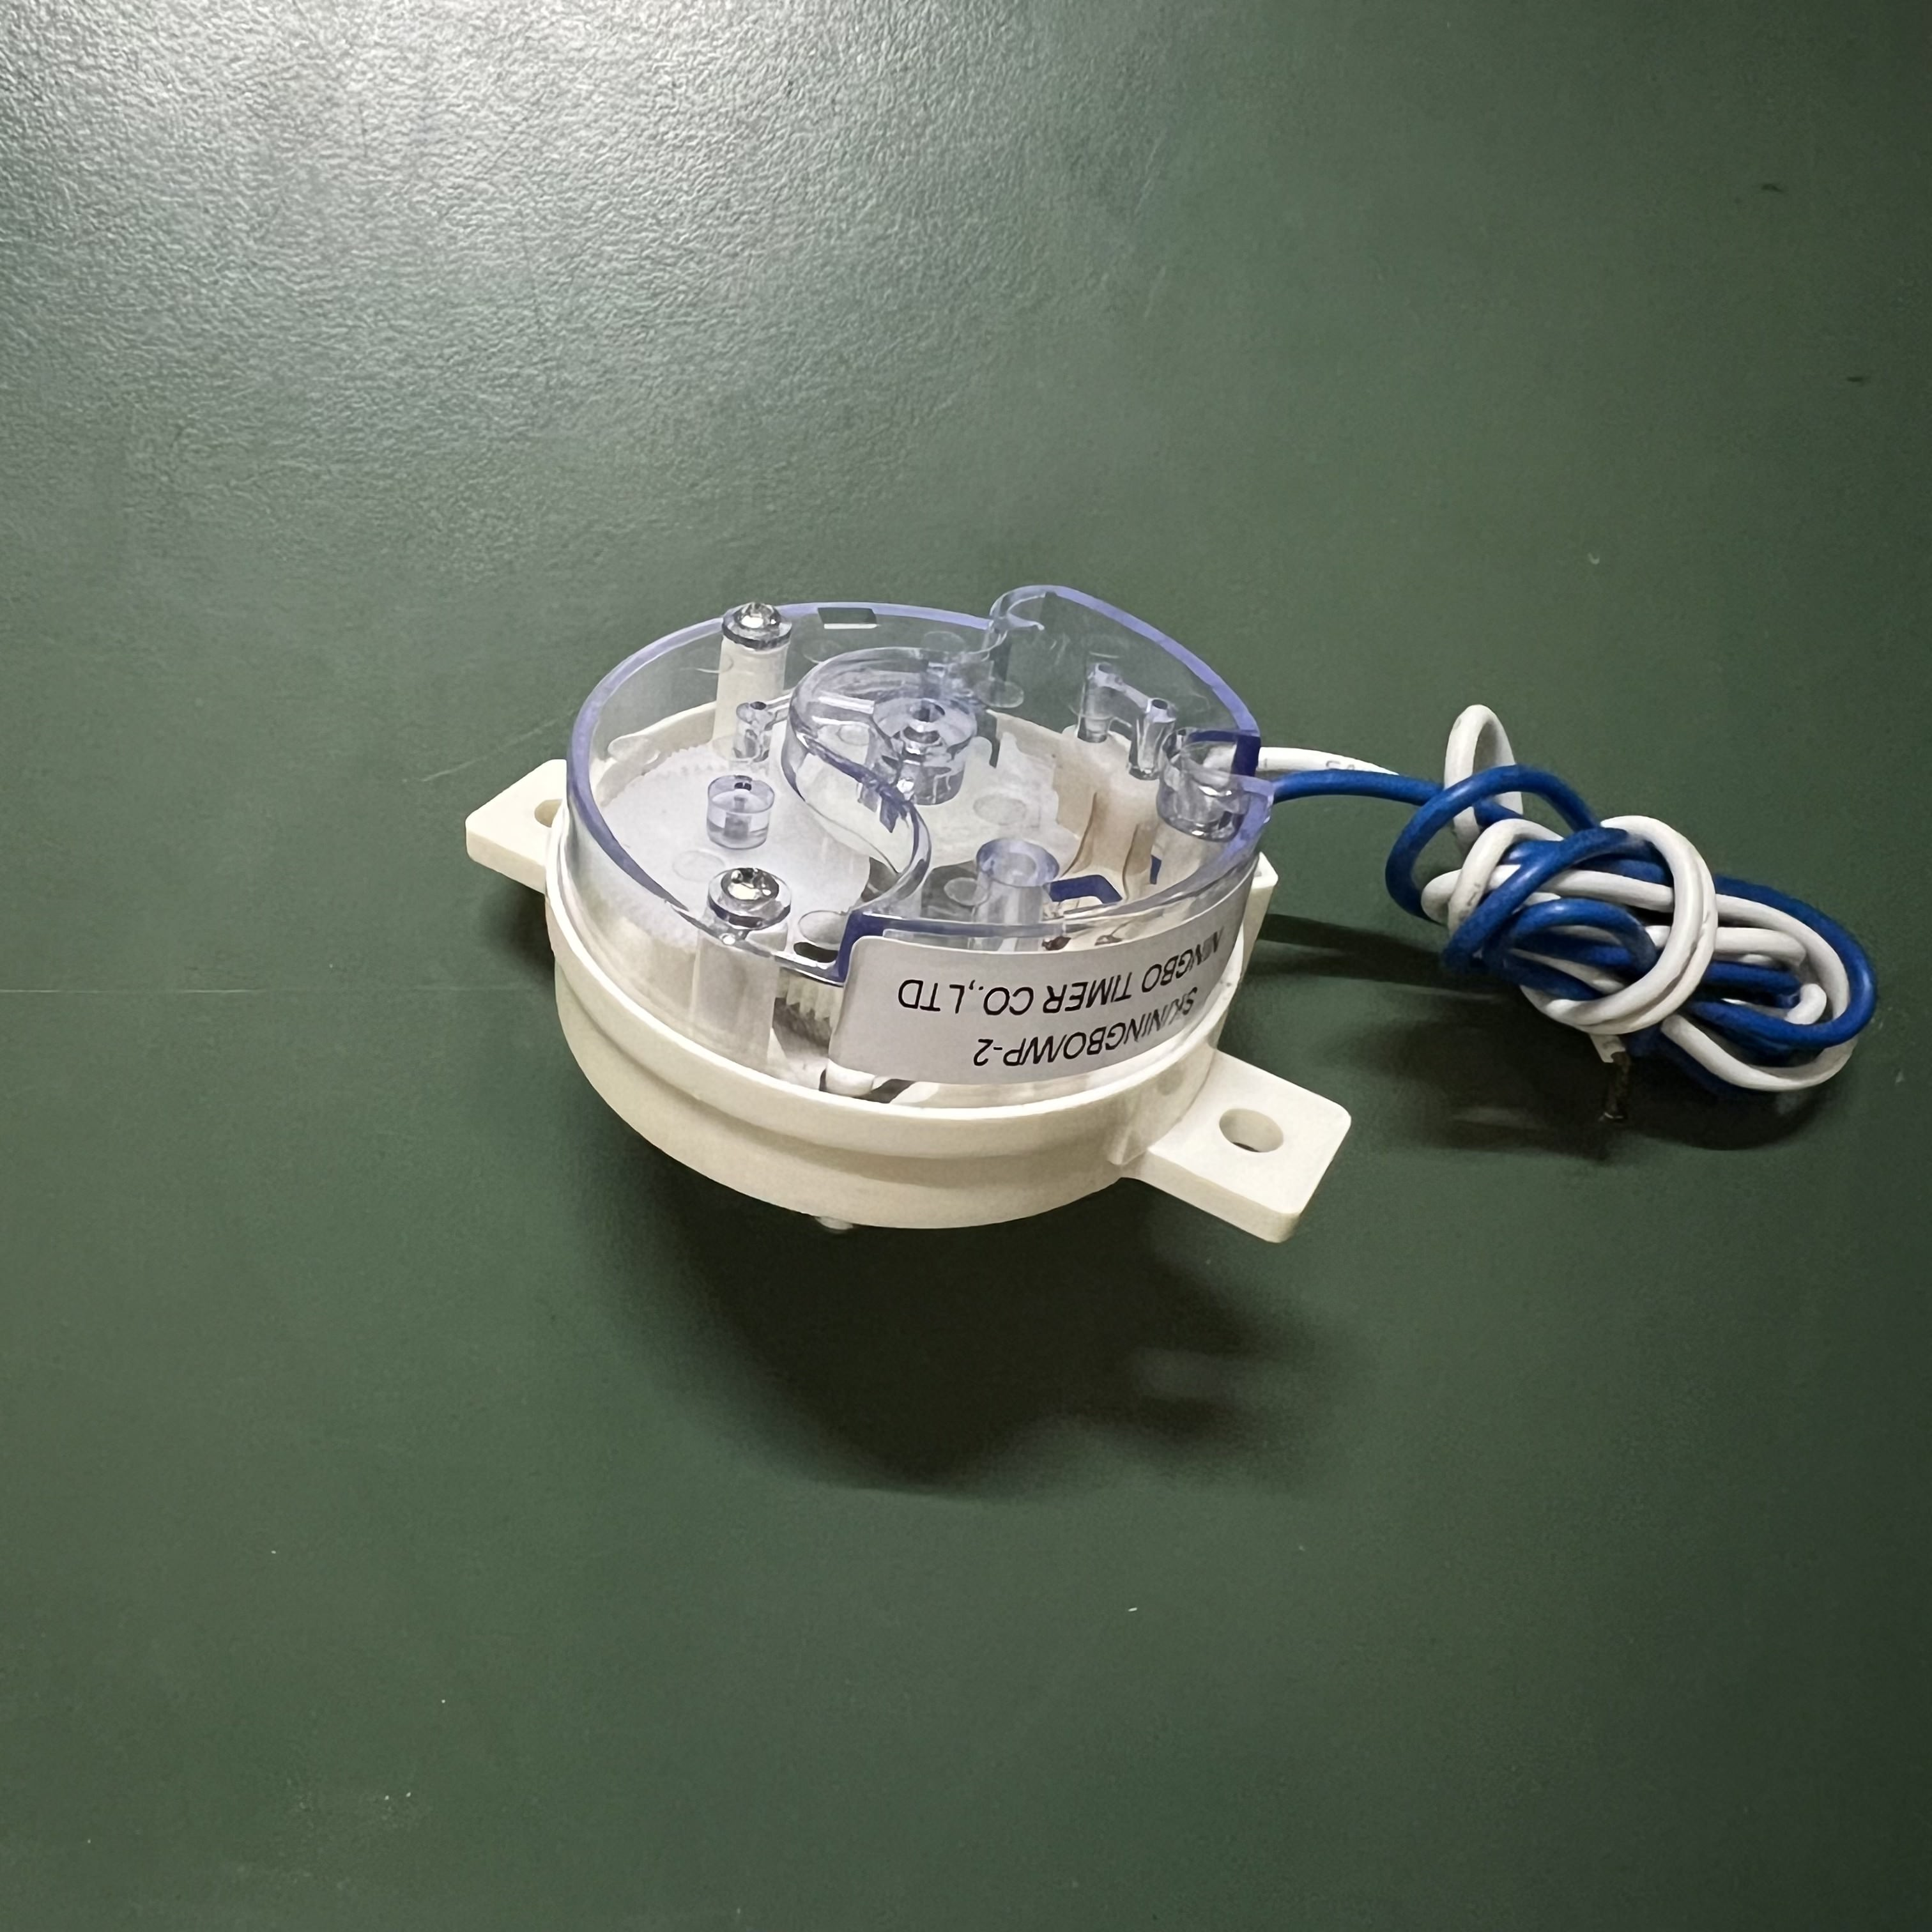circle_timer: (372, 557, 1900, 1253)
